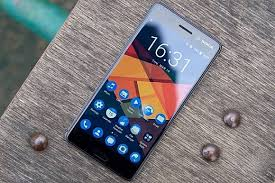nokia: (60, 4, 220, 181)
